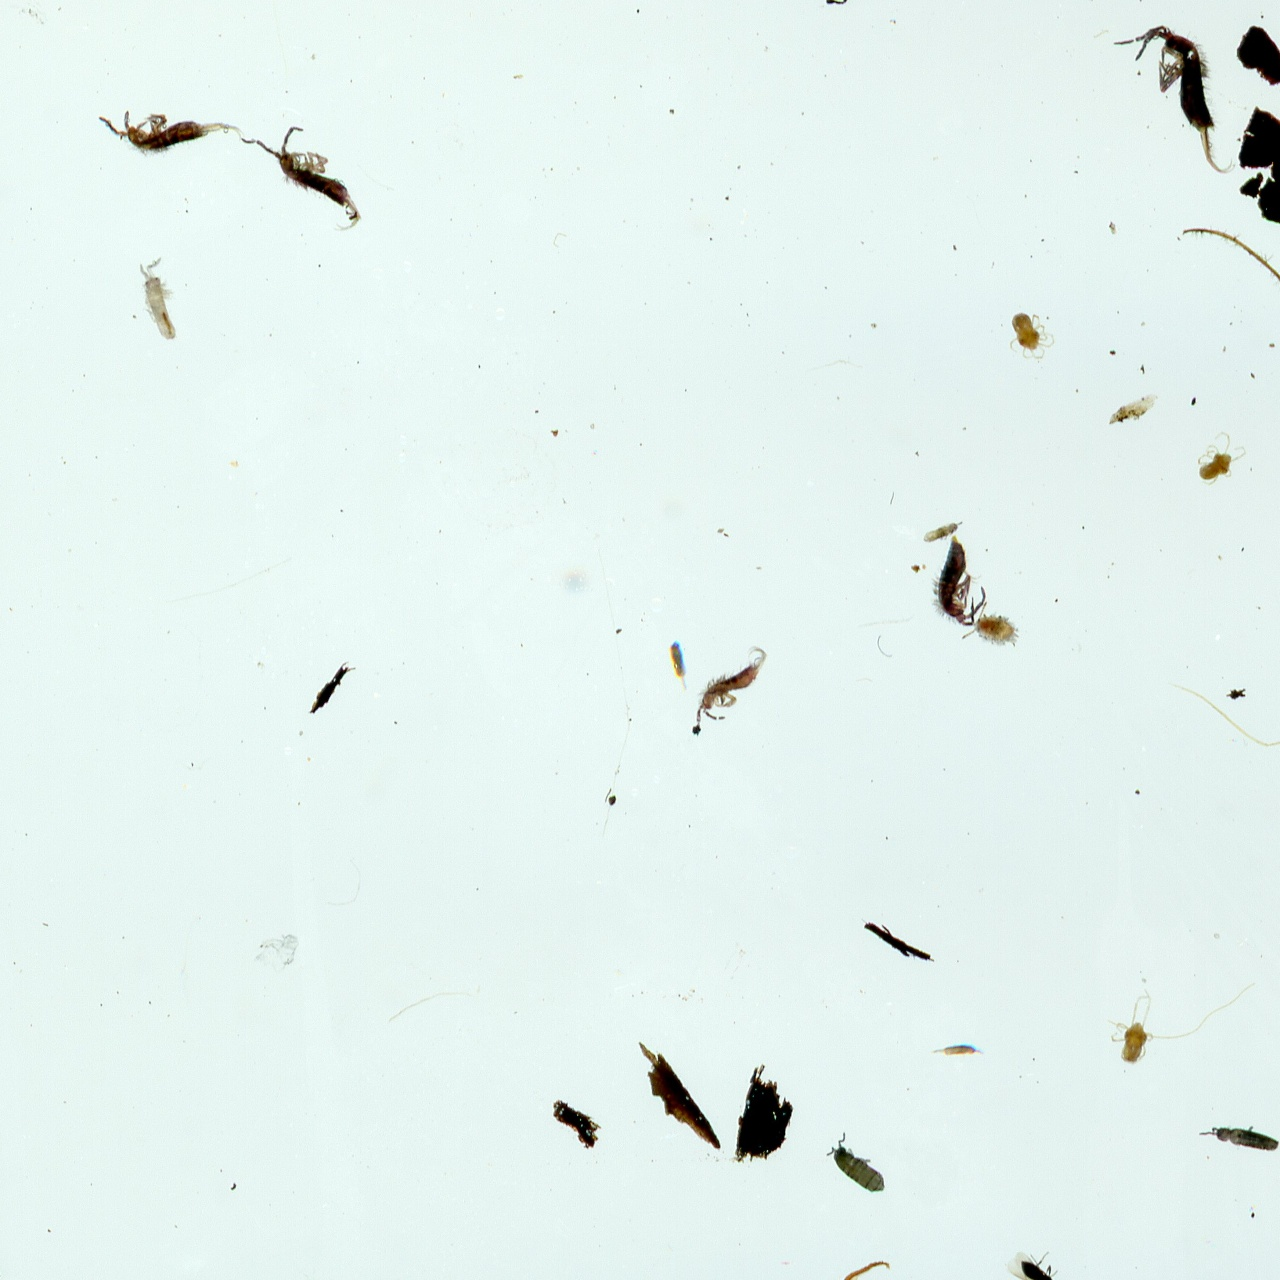arthropod: (1108, 16, 1240, 182), (236, 124, 365, 238), (1103, 980, 1260, 1069), (91, 107, 246, 161), (812, 1123, 900, 1214), (692, 641, 770, 734), (928, 533, 988, 628), (959, 598, 1029, 667), (135, 254, 184, 352), (1193, 1121, 1280, 1158), (1196, 430, 1247, 488), (1003, 1245, 1076, 1280), (1007, 311, 1057, 361), (665, 635, 693, 695), (755, 0, 892, 12), (919, 517, 966, 545), (928, 1042, 988, 1060)
